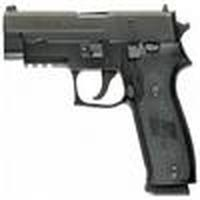gun: (3, 4, 199, 195)
